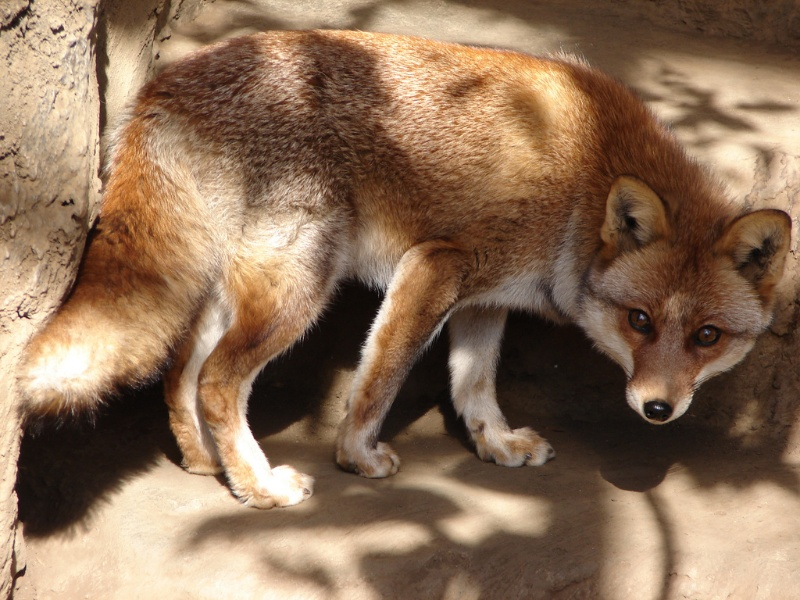fox: (21, 30, 793, 508)
